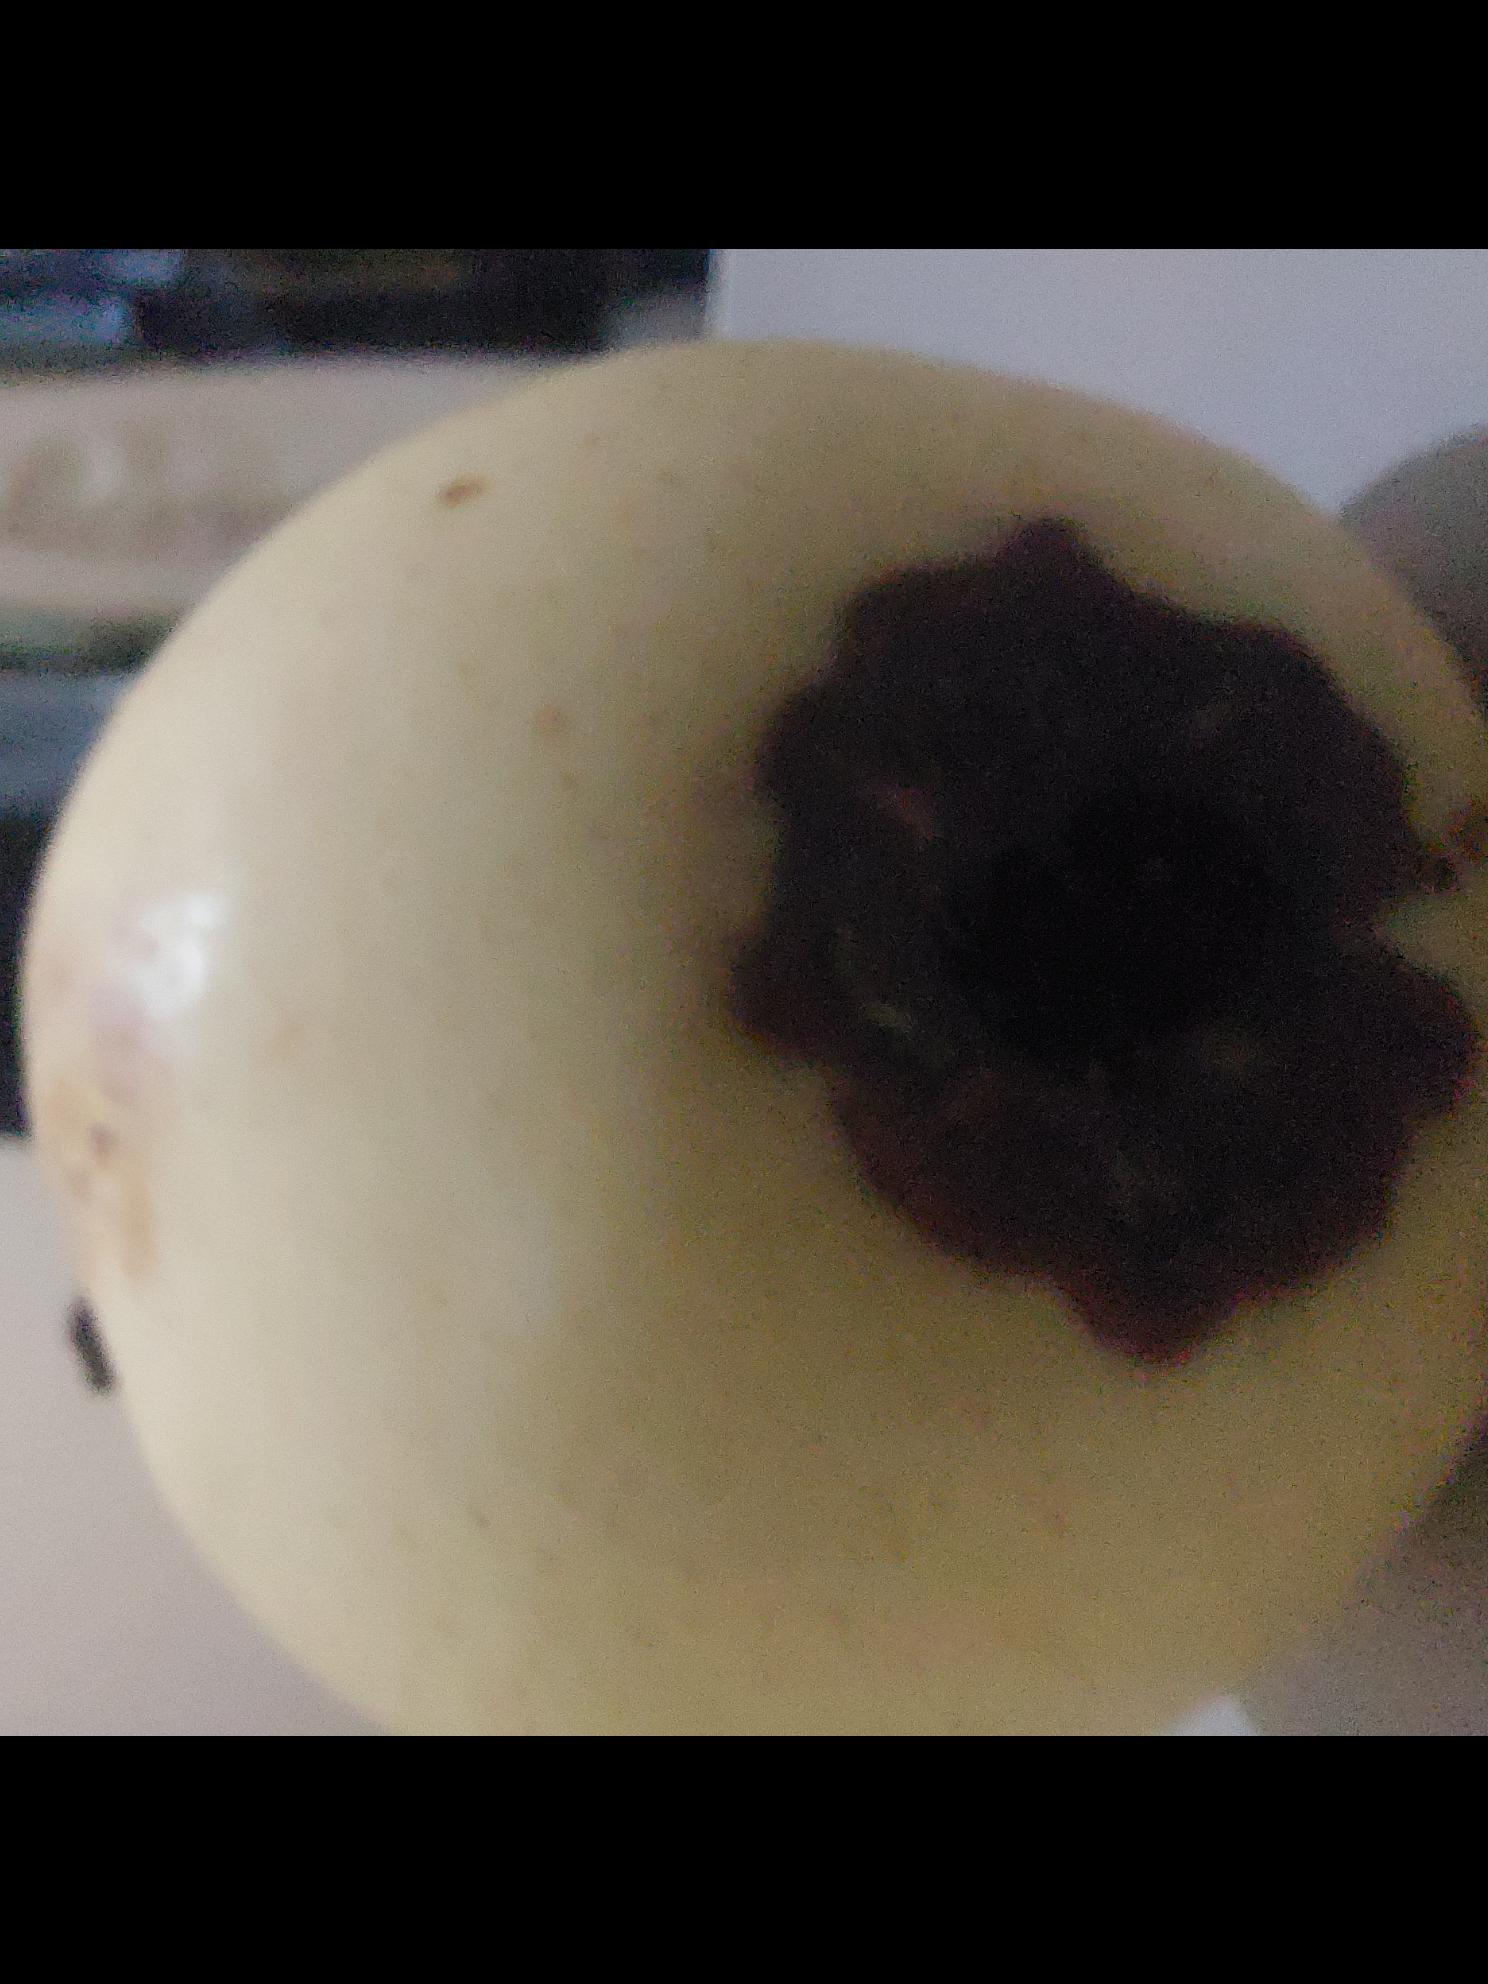Bad Pear: (19, 536, 1488, 1736)
